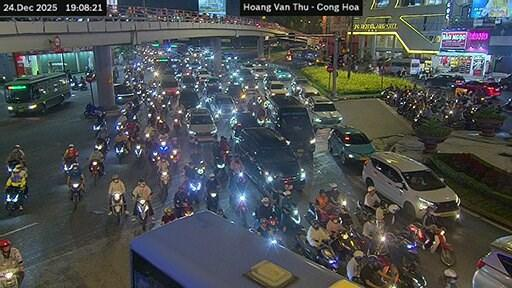motorbike: (406, 224, 454, 265), (295, 233, 338, 269), (330, 230, 359, 261), (397, 262, 425, 287), (281, 203, 300, 229), (5, 187, 22, 215), (355, 201, 374, 223), (234, 193, 246, 225), (0, 265, 18, 286), (137, 198, 149, 229), (112, 193, 124, 223), (188, 176, 201, 202), (214, 154, 226, 179), (70, 180, 80, 208), (89, 161, 101, 184), (83, 103, 102, 117), (304, 202, 316, 224), (205, 189, 217, 211), (95, 136, 108, 156), (63, 158, 76, 176), (176, 202, 192, 216), (157, 140, 169, 157), (115, 142, 125, 162), (92, 121, 105, 136), (134, 144, 143, 165), (169, 148, 179, 166), (194, 160, 204, 178), (160, 171, 169, 190), (6, 161, 19, 174), (172, 117, 181, 134), (502, 98, 511, 111), (149, 151, 159, 162), (115, 121, 124, 130), (70, 80, 79, 89), (79, 81, 86, 90)
